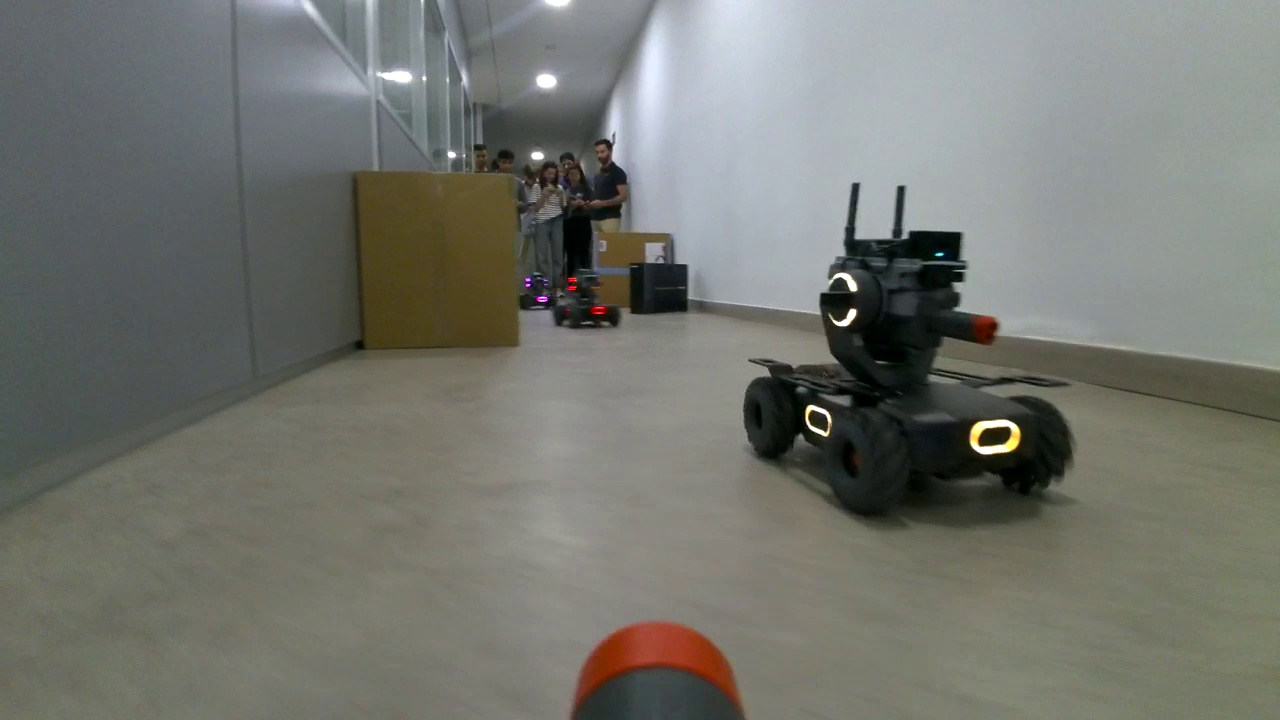robot: (742, 230, 1074, 521), (552, 270, 625, 328), (516, 273, 556, 312)
